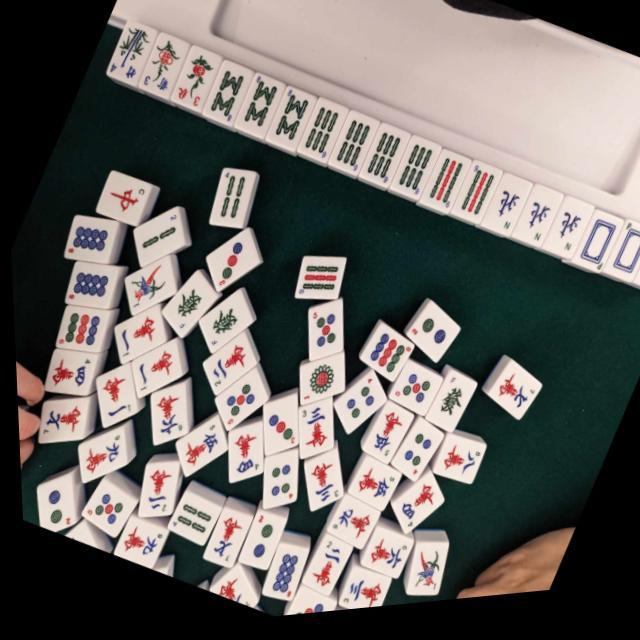bf3: (134, 34, 190, 102)
bf4: (102, 20, 158, 91)
bs3: (166, 46, 222, 116)
hdw: (566, 218, 622, 285), (597, 228, 640, 296), (630, 244, 640, 306)
hwn: (475, 178, 531, 248), (507, 190, 562, 260), (536, 203, 592, 271)
sb6: (354, 127, 410, 196), (384, 140, 440, 209), (293, 102, 348, 170), (324, 114, 378, 182)
sb8: (198, 61, 255, 132), (230, 74, 286, 144), (261, 89, 317, 158)
sb9: (414, 154, 470, 222), (446, 167, 500, 235)
